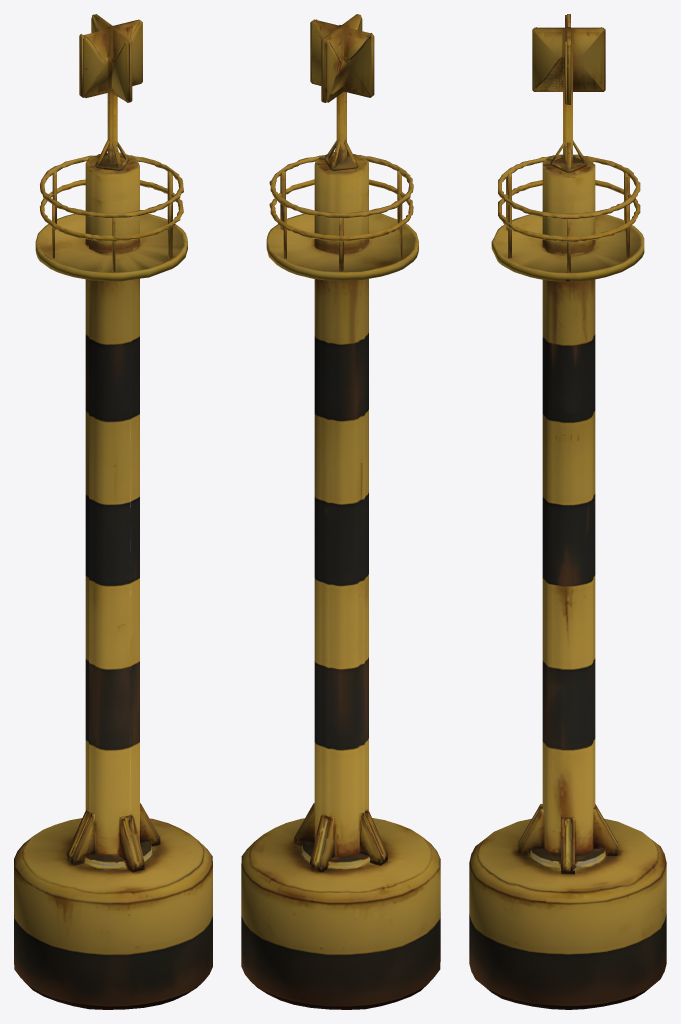
The model's file is original_glb.glb.
The picture shows the model from 3 angles, left to right: view 1: azimuth 30°, elevation 25°; view 2: azimuth 150°, elevation 25°; view 3: azimuth 270°, elevation 25°; orthographic projection.
Parts seen in each view (by area): view 1: Channel Gate Marker; view 2: Channel Gate Marker; view 3: Channel Gate Marker.
Part boxes in pixels (x1,y1,x2,y2): Channel Gate Marker: (14, 14, 212, 1009); Channel Gate Marker: (241, 14, 440, 1009); Channel Gate Marker: (469, 14, 666, 1009).
Size of the model in its own units: 0.1895 by 0.998 by 0.1895.
1 material, 1 textured.
